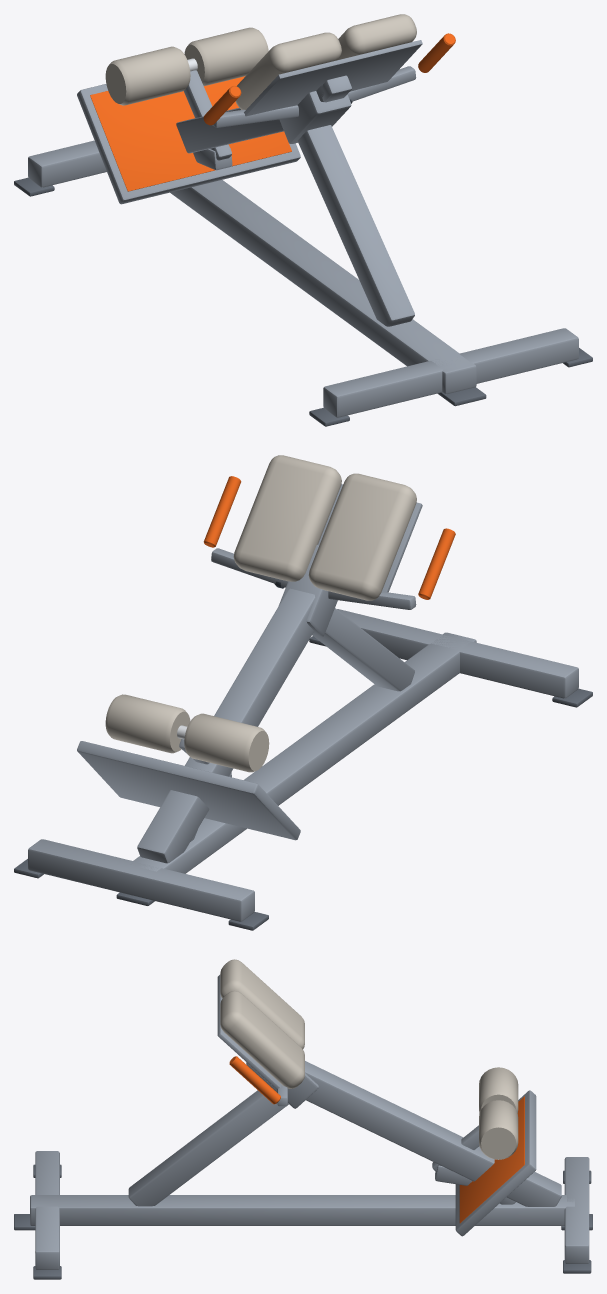
The model's file is back-extension-bench.glb.
3 views of the same model, one above another, from view 1: azimuth 30°, elevation 25°; view 2: azimuth 150°, elevation 25°; view 3: azimuth 270°, elevation 25° (orthographic). The views are drawn at different scales.
Parts seen in each view (by area): view 1: frame.frame, frame.tread, hip_pad.frame, frame.pad, hip_pad.pad, frame.rubber, frame.grip; view 2: frame.frame, hip_pad.pad, frame.pad, hip_pad.frame, frame.grip, frame.rubber; view 3: frame.frame, hip_pad.pad, frame.pad, frame.tread, hip_pad.frame, frame.rubber, frame.grip.
Boxes of the visible parts, left/top/right/bottom form: frame.frame: left=28, top=66, right=578, bottom=417; frame.tread: left=90, top=76, right=291, bottom=191; hip_pad.frame: left=244, top=40, right=422, bottom=143; frame.pad: left=105, top=27, right=268, bottom=105; hip_pad.pad: left=235, top=14, right=416, bottom=109; frame.rubber: left=14, top=177, right=592, bottom=426; frame.grip: left=203, top=33, right=455, bottom=125; frame.frame: left=28, top=548, right=578, bottom=921; hip_pad.pad: left=233, top=455, right=416, bottom=600; frame.pad: left=105, top=694, right=269, bottom=772; hip_pad.frame: left=278, top=484, right=422, bottom=636; frame.grip: left=203, top=476, right=455, bottom=599; frame.rubber: left=14, top=636, right=592, bottom=930; frame.frame: left=30, top=1061, right=589, bottom=1269; hip_pad.pad: left=220, top=959, right=304, bottom=1088; frame.pad: left=479, top=1067, right=518, bottom=1159; frame.tread: left=459, top=1096, right=524, bottom=1223; hip_pad.frame: left=217, top=974, right=318, bottom=1108; frame.rubber: left=14, top=1164, right=592, bottom=1279; frame.grip: left=229, top=1056, right=280, bottom=1104.
Bounding box in the file's own units: 0.75 × 0.7444 × 1.64.
